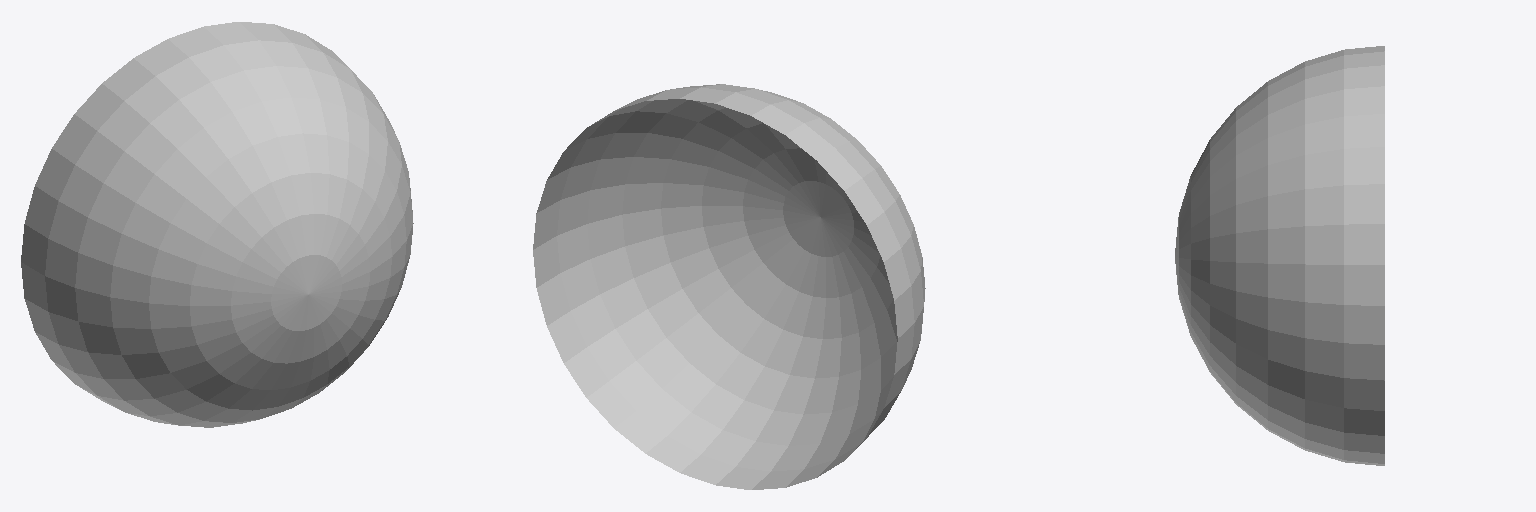
Rendered from beam.obj.
3 views of the same model, side by side, from view 1: azimuth 30°, elevation 25°; view 2: azimuth 150°, elevation 25°; view 3: azimuth 270°, elevation 25° (orthographic).
Parts seen in each view (by area): view 1: Sphere; view 2: Sphere; view 3: Sphere.
Part boxes in pixels (x1,y1,x2,y2): Sphere: (21, 22, 413, 427); Sphere: (533, 84, 925, 489); Sphere: (1175, 46, 1384, 465).
Size of the model in its own units: 2 by 2 by 1.